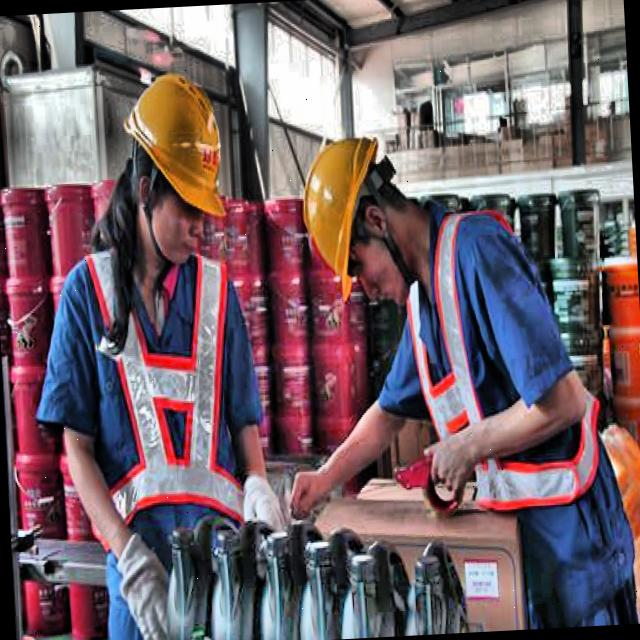helmet: (108, 46, 246, 266), (295, 114, 417, 297)
